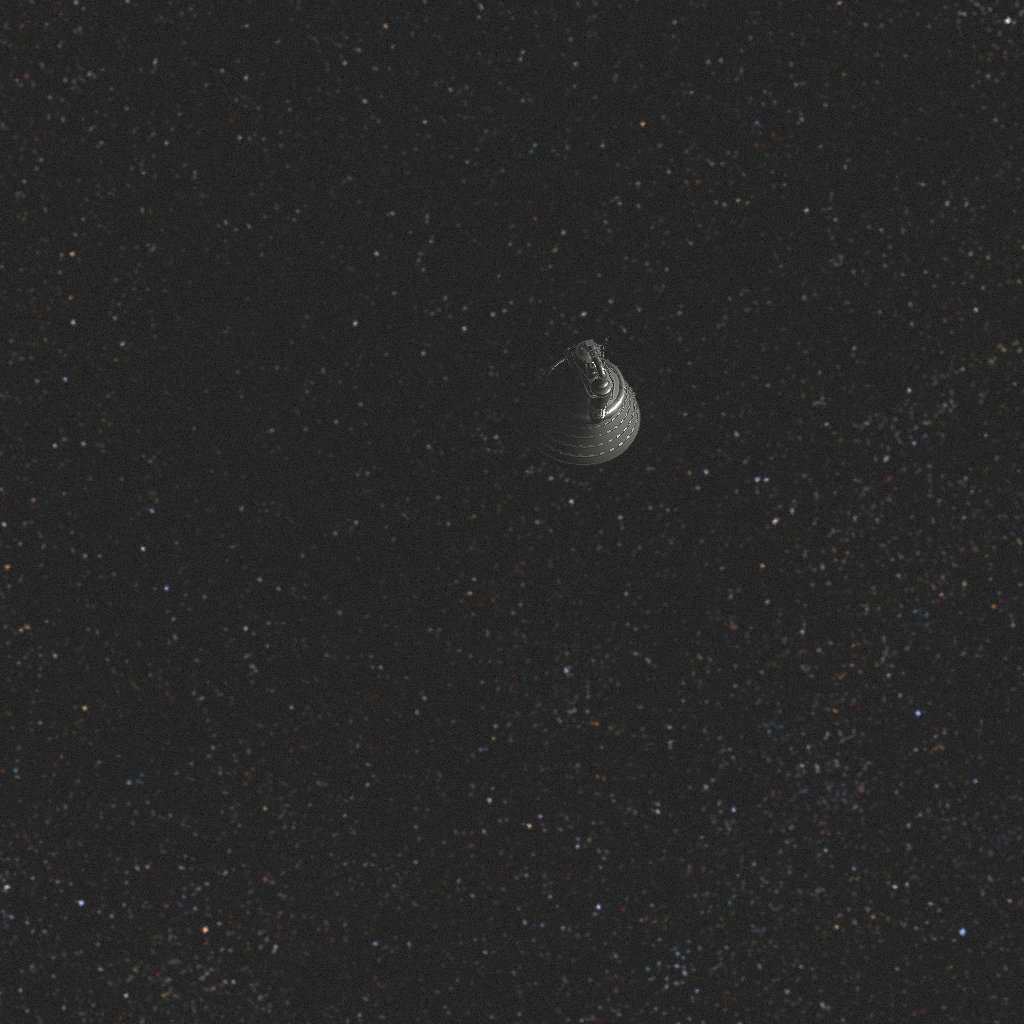debris: (520, 338, 640, 466)
